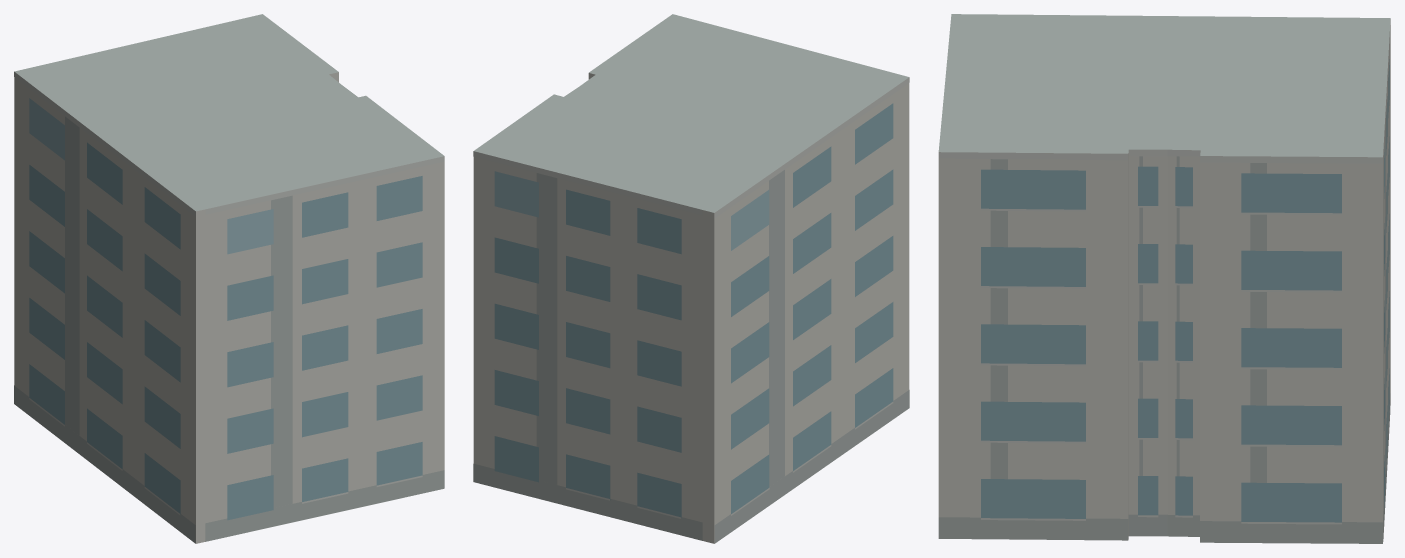
Rendered from survey-upis-32564994.glb.
3 views of the same model, side by side, from view 1: azimuth 30°, elevation 25°; view 2: azimuth 150°, elevation 25°; view 3: azimuth 270°, elevation 25° (orthographic). The views are drawn at different scales.
Parts seen in each view (by area): view 1: survey-upis-32564994.tmp; view 2: survey-upis-32564994.tmp; view 3: survey-upis-32564994.tmp.
Part boxes in pixels (<box>): survey-upis-32564994.tmp: <box>14,14,444,543</box>; survey-upis-32564994.tmp: <box>473,14,909,543</box>; survey-upis-32564994.tmp: <box>938,14,1390,543</box>.
Bounding box in the file's own units: 11.41 × 14.35 × 15.21.
